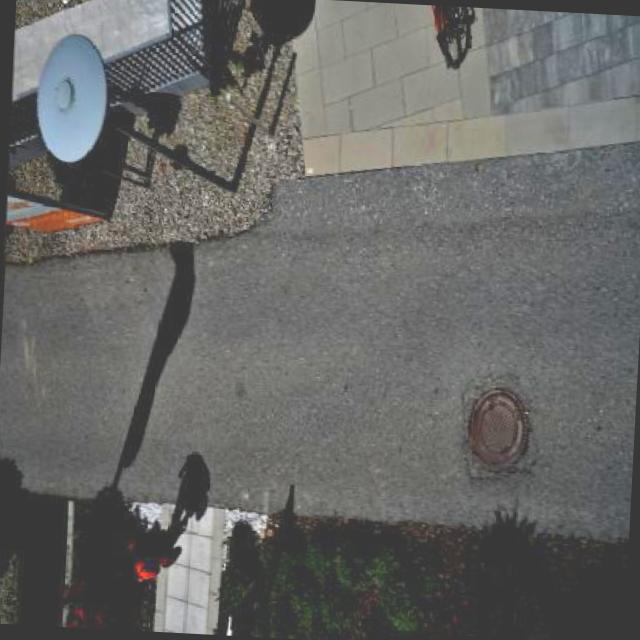Person: (100, 509, 184, 601)
